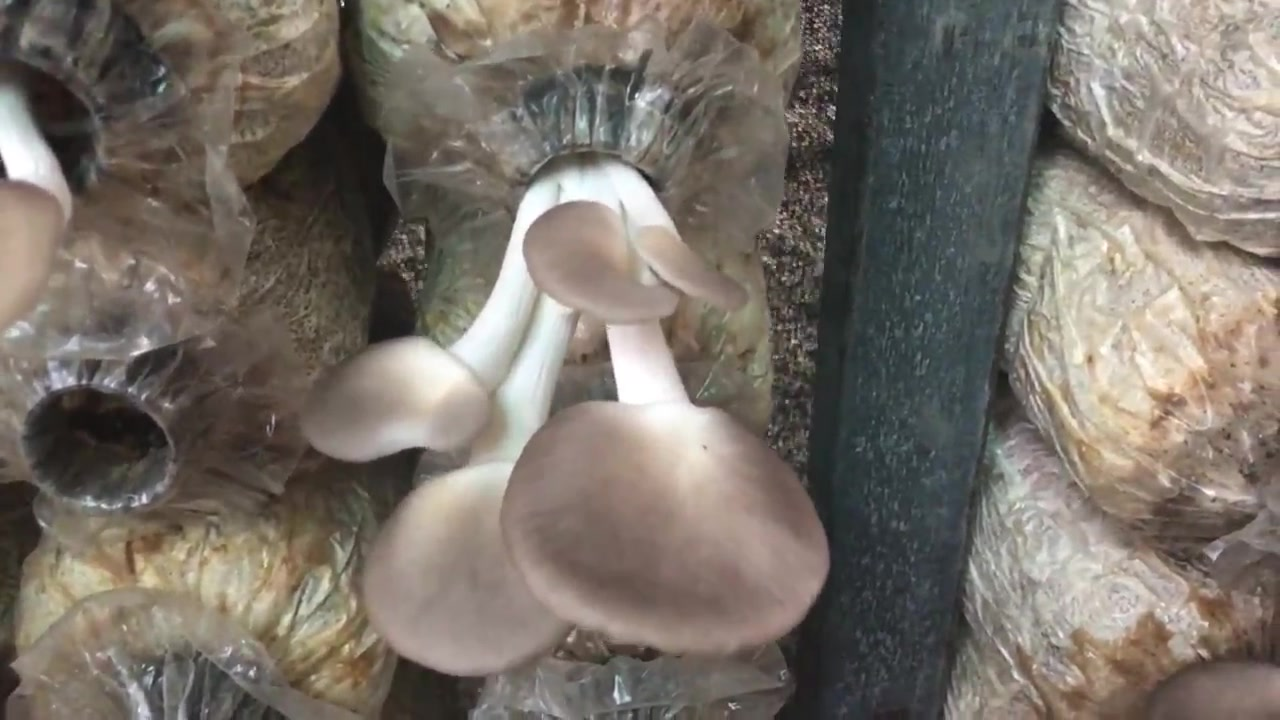nam: (305, 85, 827, 674), (1, 1, 127, 339)
